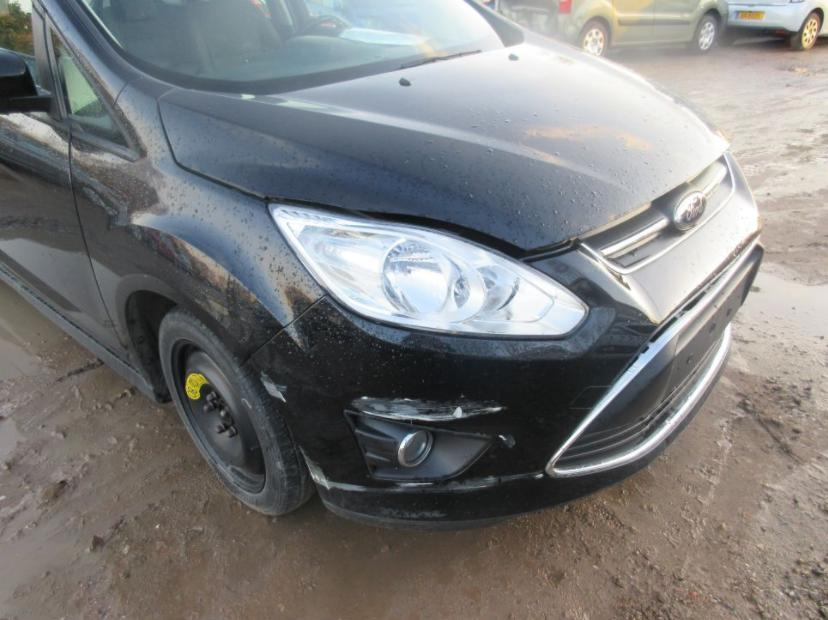Fender: (67, 75, 325, 372)
Front-bumper: (246, 151, 762, 527)
Front-door: (1, 0, 126, 364)
Front-wheel: (159, 310, 316, 517)
Front-window: (0, 0, 140, 161)
Grille: (579, 155, 733, 272)
Headlight: (270, 201, 590, 341)
Hood: (159, 28, 731, 251)
Mirror: (1, 48, 51, 115)
Rocker-panel: (1, 271, 162, 405)
Windshield: (77, 0, 524, 93)
